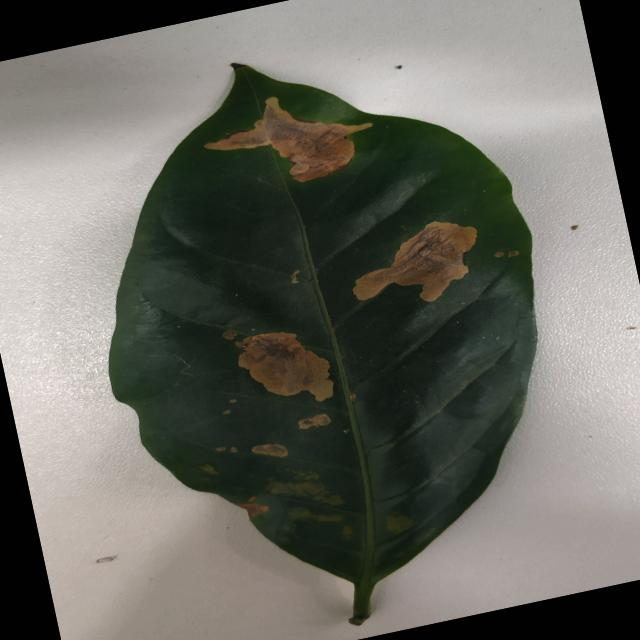PengorokDaunKopi: (204, 96, 372, 182), (353, 221, 477, 301), (236, 332, 333, 400), (266, 472, 344, 505), (287, 506, 341, 521), (236, 496, 268, 518), (386, 514, 415, 533), (251, 443, 288, 457), (298, 413, 331, 428), (200, 464, 218, 474), (222, 329, 236, 339), (508, 250, 519, 256), (494, 251, 504, 257)
